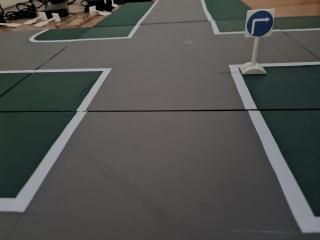right: (240, 6, 276, 45)
